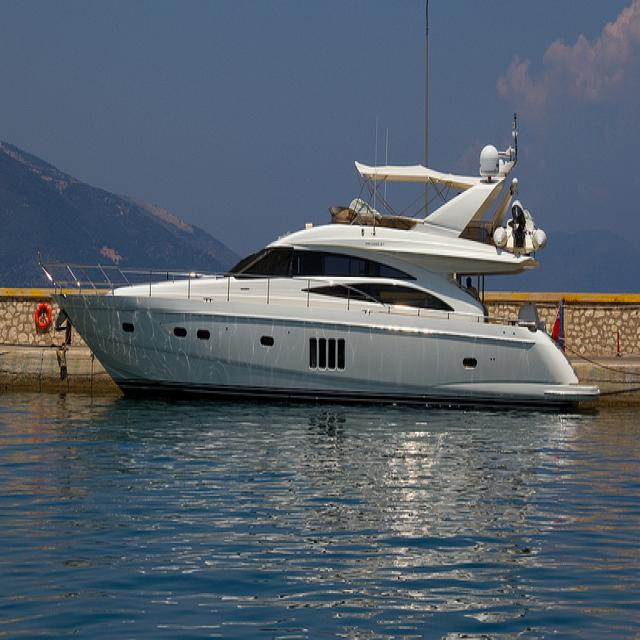houseboat: (36, 108, 603, 430)
